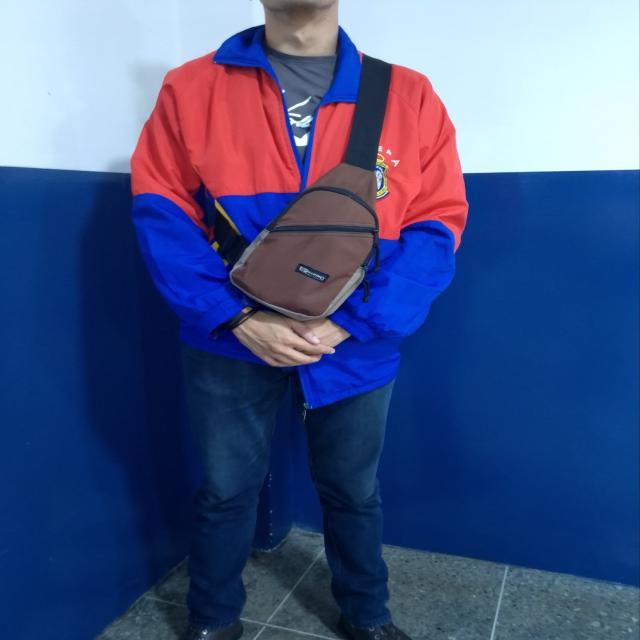chaqueta_unefa: (130, 23, 469, 410)
pantalon_oscuro: (175, 349, 395, 640)
